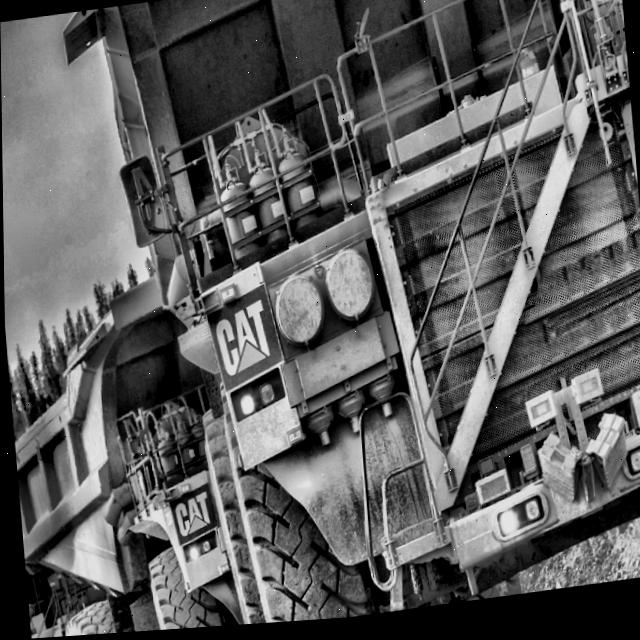dump_truck: (41, 0, 640, 638), (3, 234, 296, 640)
